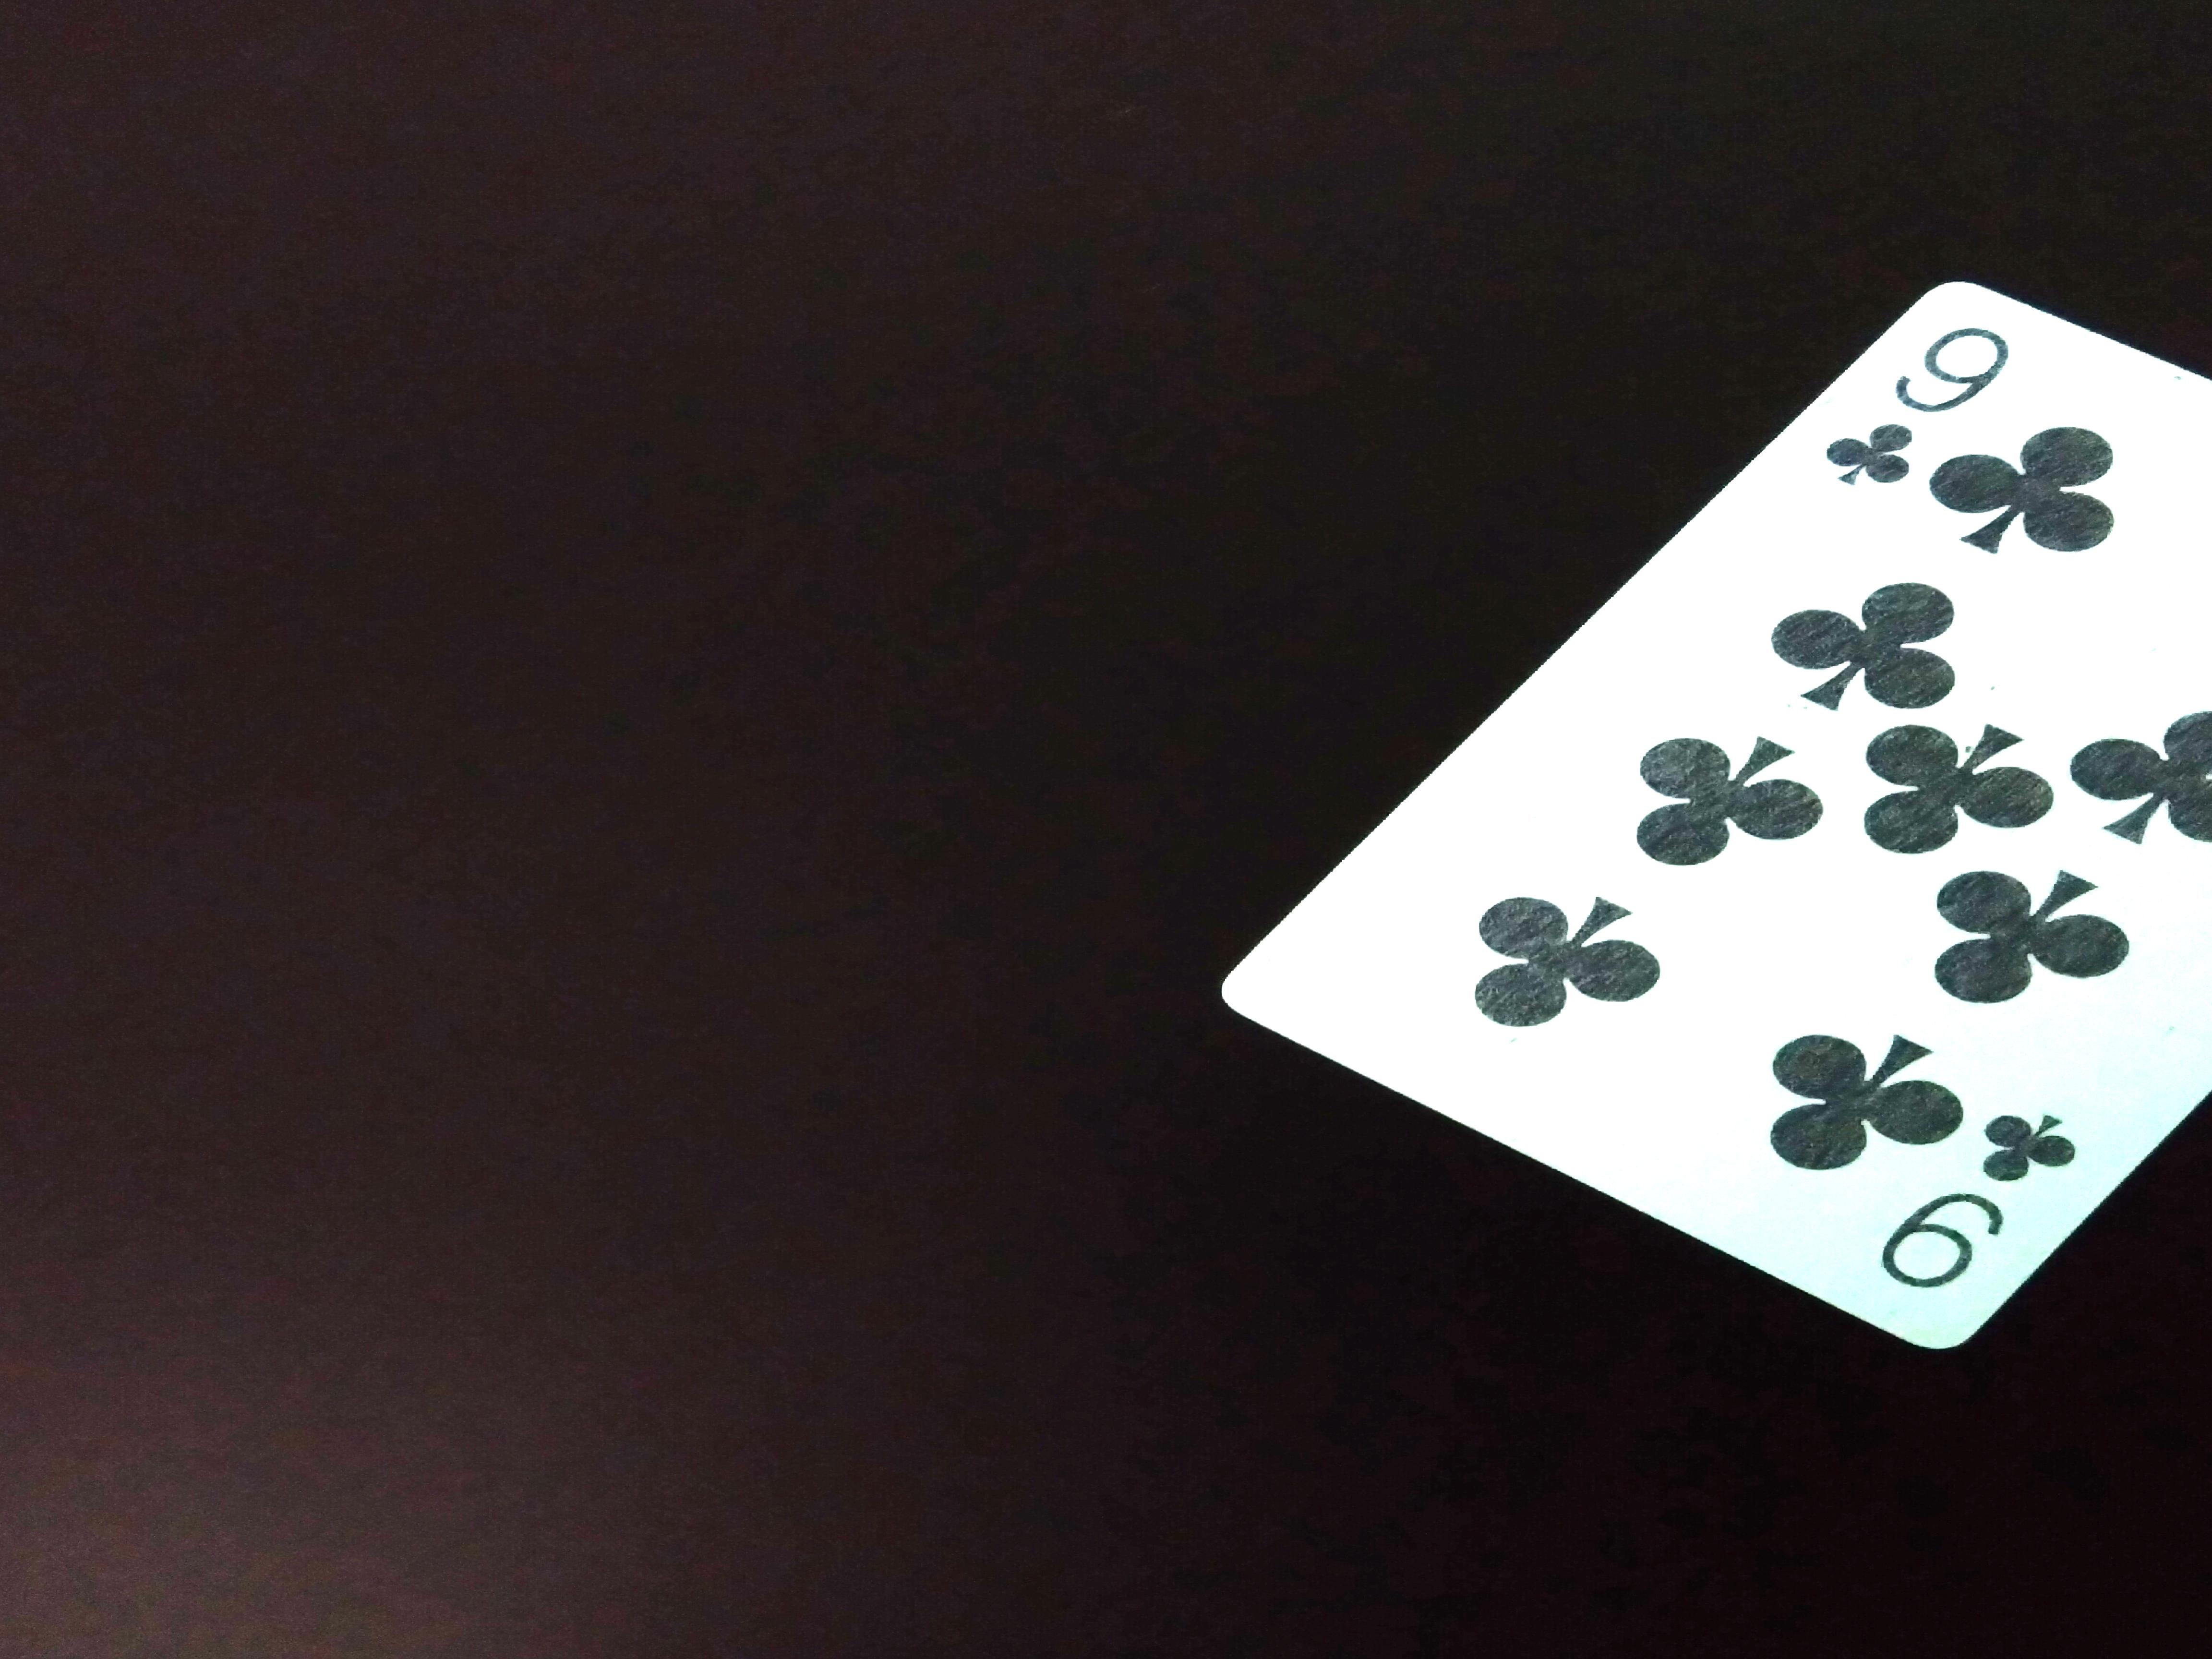9C: (1871, 1096, 2099, 1293)
